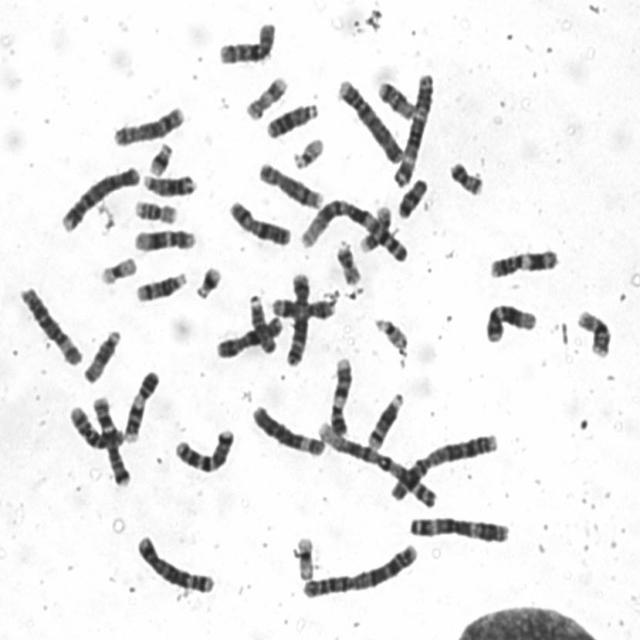A1: (311, 416, 439, 509), (296, 194, 410, 263)
A2: (384, 428, 500, 503), (297, 538, 422, 600)
A3: (389, 66, 436, 189), (404, 509, 512, 545)
B4: (333, 72, 406, 165), (56, 158, 142, 234)
B5: (132, 528, 217, 594), (281, 267, 312, 367)
C10: (64, 397, 127, 451), (214, 15, 278, 66)
C11: (485, 242, 562, 280), (266, 290, 337, 320)
C12: (481, 296, 540, 344), (129, 222, 198, 252)
C6: (15, 280, 85, 368), (248, 399, 327, 458)
C7: (89, 390, 132, 488), (169, 421, 236, 475)
C8: (253, 156, 326, 210), (108, 99, 187, 148)
C9: (120, 364, 161, 443), (325, 350, 355, 438)
D13: (262, 96, 320, 139), (138, 167, 197, 198)
D14: (362, 386, 407, 452), (131, 265, 189, 303)
D15: (78, 323, 123, 385), (243, 288, 279, 356)
E16: (573, 304, 614, 359), (130, 194, 179, 225)
E17: (241, 69, 289, 121), (356, 200, 394, 254)
E18: (374, 74, 417, 120), (393, 171, 430, 220)
F19: (95, 250, 139, 286), (291, 530, 317, 582)
F20: (444, 155, 486, 197), (331, 236, 364, 286)
G21: (190, 259, 224, 300), (144, 136, 175, 176)
G22: (369, 311, 410, 353), (288, 131, 326, 170)
X: (224, 194, 293, 248), (212, 310, 284, 360)
